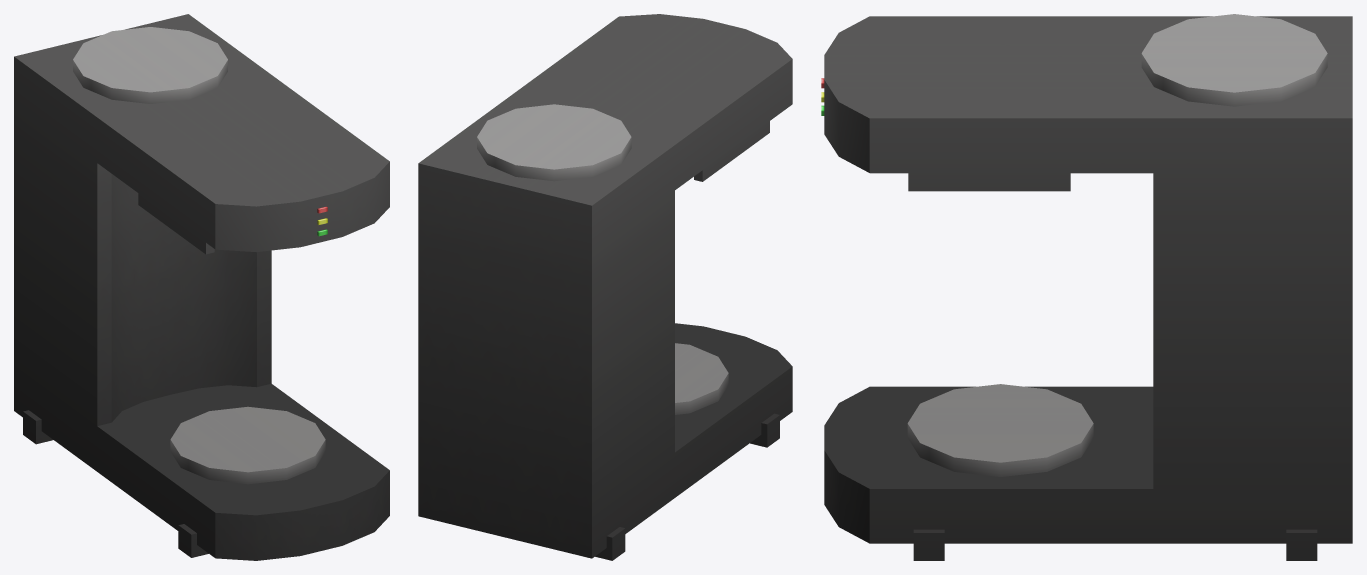
Rendered from CoffeeMakerBase.fbx.
3 views of the same model, side by side, from view 1: azimuth 30°, elevation 25°; view 2: azimuth 150°, elevation 25°; view 3: azimuth 270°, elevation 25° (orthographic). The views are drawn at different scales.
Visible parts, largest first — view 1: CoffeeMakerBase; view 2: CoffeeMakerBase; view 3: CoffeeMakerBase.
Part boxes in pixels (left/top/right/bottom): CoffeeMakerBase: left=14, top=14, right=389, bottom=560; CoffeeMakerBase: left=418, top=14, right=792, bottom=560; CoffeeMakerBase: left=821, top=14, right=1352, bottom=560.
Bounding box in the file's own units: 20.9 × 40.59 × 43.15.
